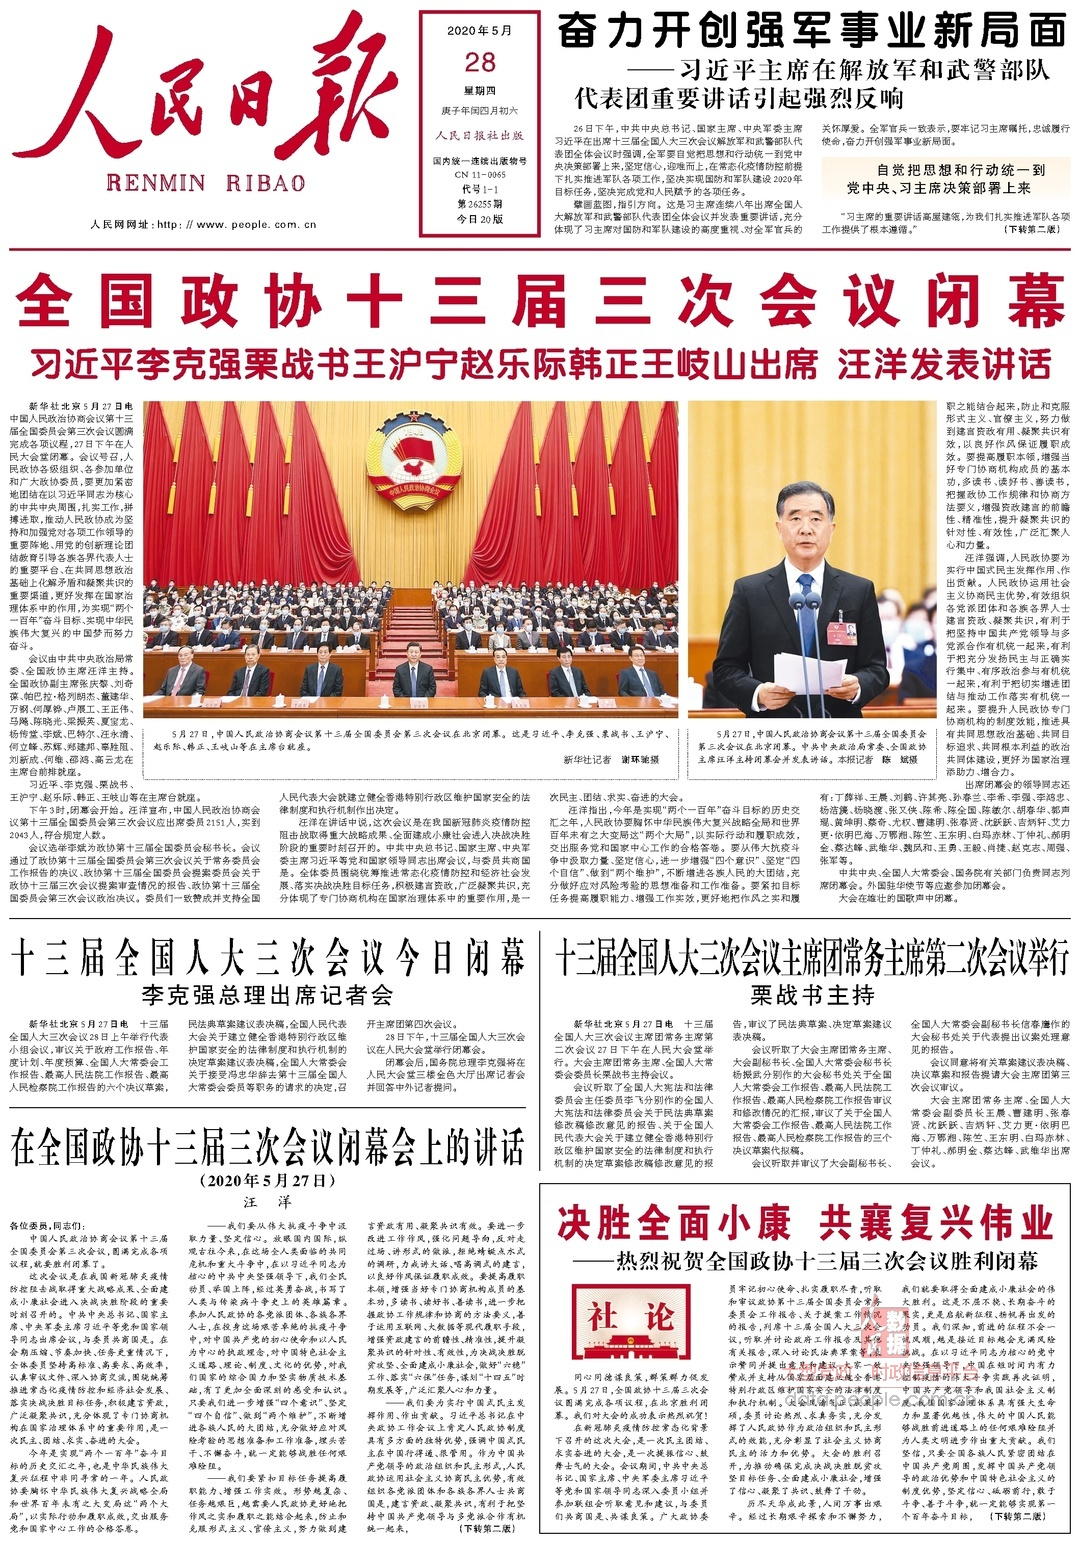pic: (140, 396, 682, 723), (685, 396, 940, 726)
